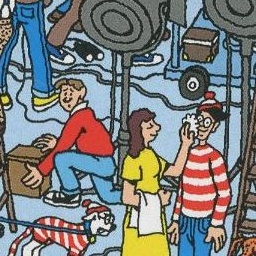waldo: (177, 88, 230, 219), (197, 92, 224, 149)
